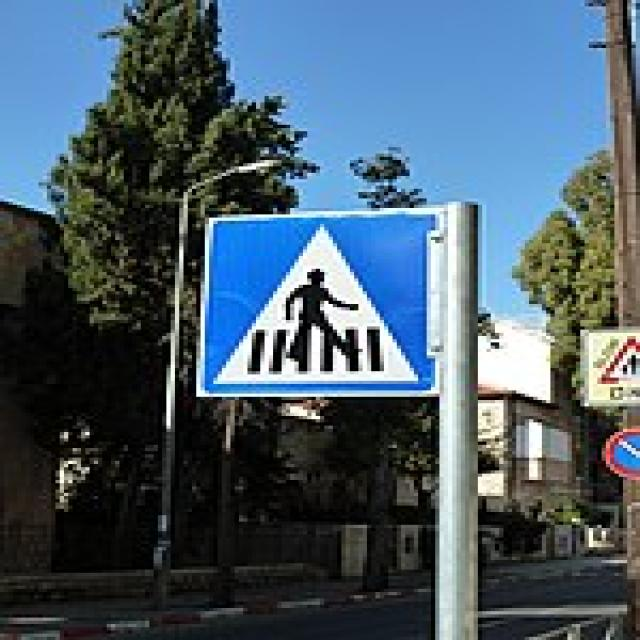Pedestrian crosswalk: (193, 209, 448, 401)
